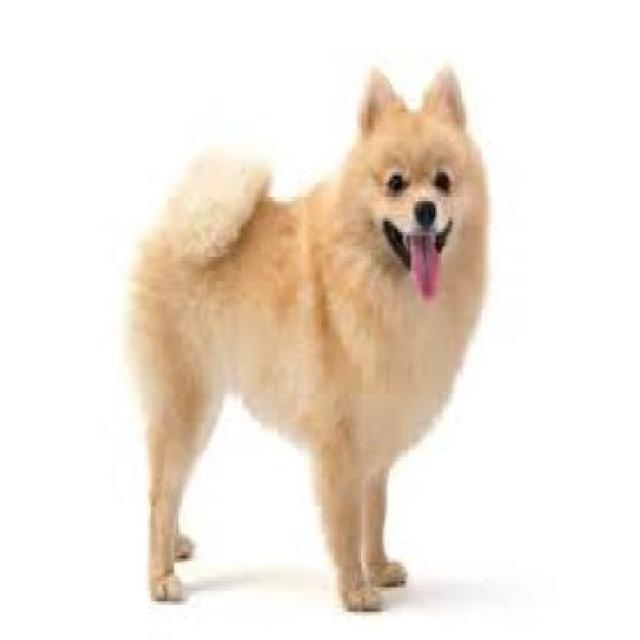animals: (117, 43, 497, 614)
